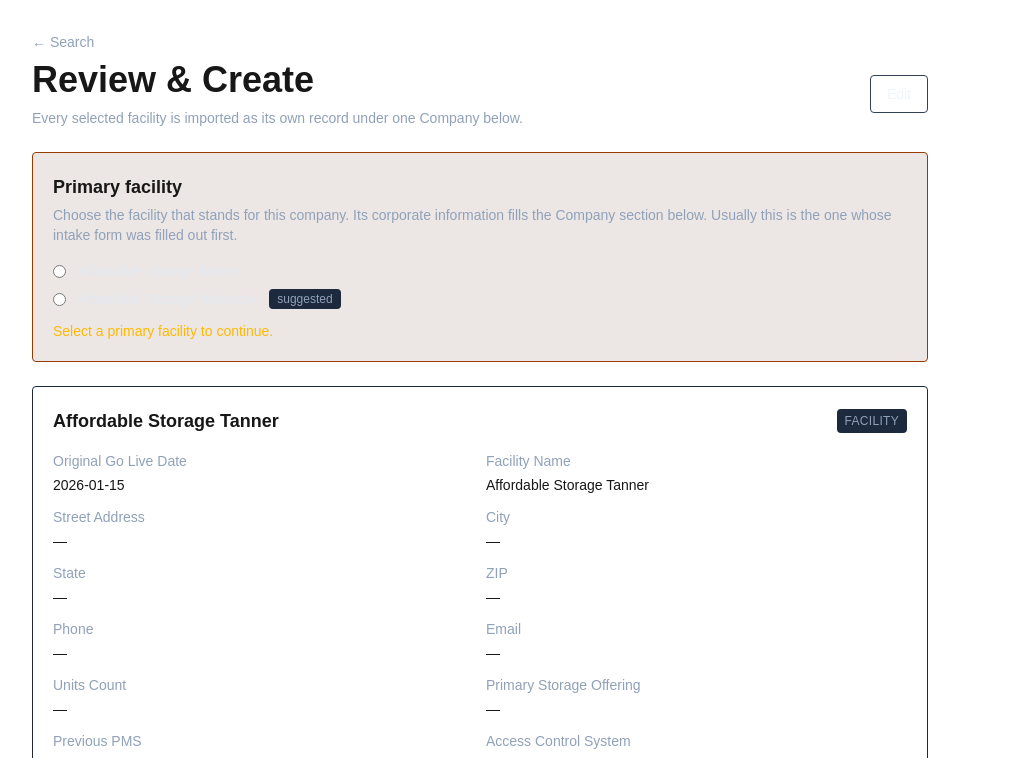
Test: ClientsNewPage › seeds the Company from the chosen primary facility's own corporate data
Click the radio button labelled "Affordable Storage Westpark suggested" at x=60, y=299, box [53,292,66,306]
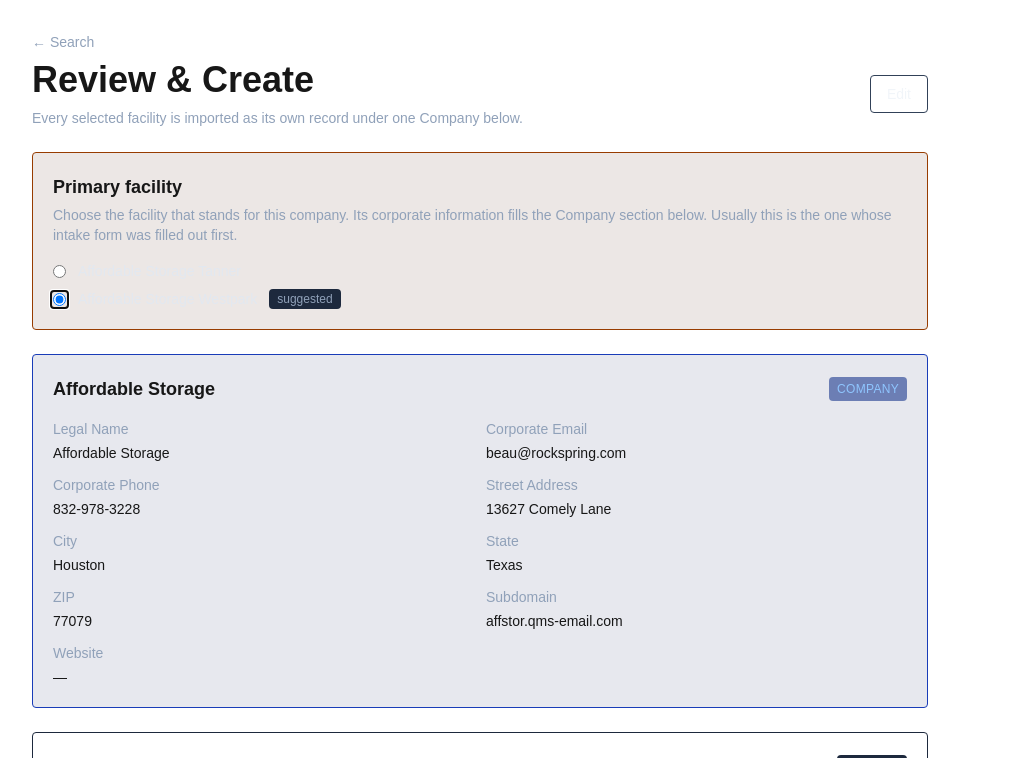
Check: the heading "Affordable Storage" is shown, box [53,375,215,403]
Check: the text "beau@rockspring.com" is shown, box [486,445,626,461]
Check: the text "13627 Comely Lane" is shown, box [486,501,611,517]
